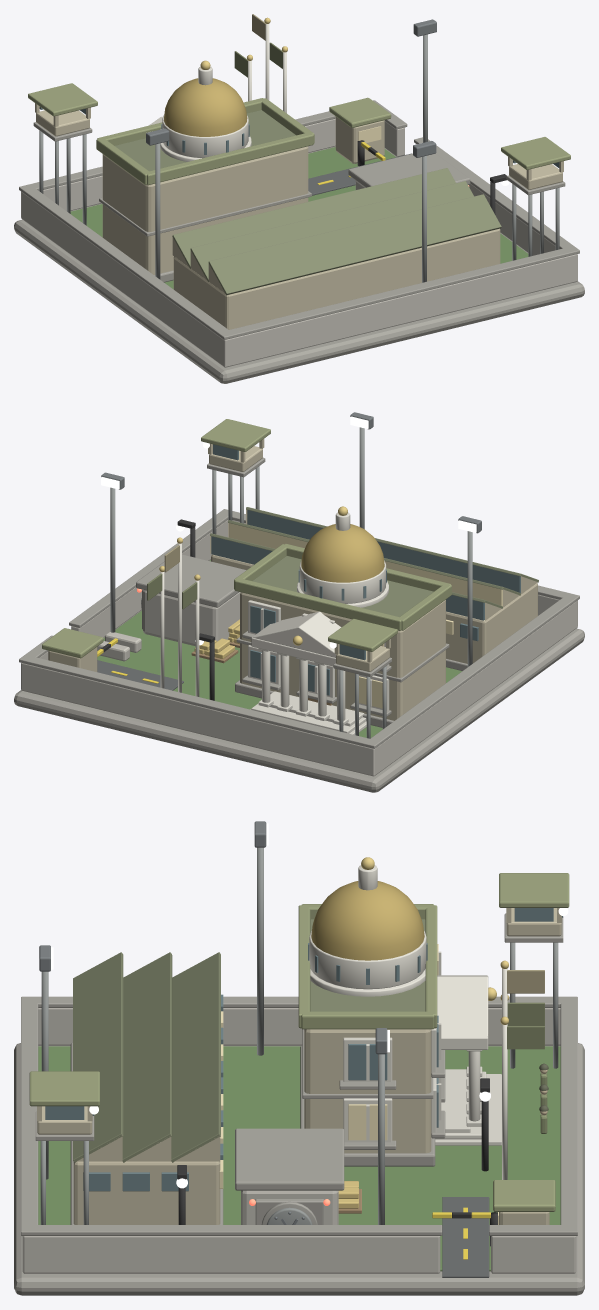
File: treasury_10.glb
3 renders of one model, top to bottom at view 1: azimuth 30°, elevation 25°; view 2: azimuth 150°, elevation 25°; view 3: azimuth 270°, elevation 25°, orthographic. The views are drawn at different scales.
Parts seen in each view (by area): view 1: Cube.036, Cube.014, Cube.031, Cube, Cube.114, Cube.116, Cube.035, Cube.033, Sphere.001, Cube.115, Cube.117, Cube.001 (+23 smaller); view 2: Cube.112, Cube, Cube.036, Cube.116, Cube.001, Sphere.001, Cube.113, Cube.014, Cube.106, Cube.030, Cube.117, Cube.107 (+33 smaller); view 3: Cube.001, Cube, Cube.120, Cube.033, Cube.036, Cube.035, Cube.031, Cube.014, Sphere.001, Cube.107, Cube.116, Cube.121 (+41 smaller).
Boxes of the visible parts, bbox=[...] form: Cube.036: bbox=[102, 146, 308, 274]; Cube.014: bbox=[173, 228, 500, 329]; Cube.031: bbox=[208, 194, 501, 295]; Cube: bbox=[14, 146, 584, 383]; Cube.114: bbox=[220, 254, 577, 367]; Cube.116: bbox=[23, 194, 221, 365]; Cube.035: bbox=[172, 168, 455, 268]; Cube.033: bbox=[190, 181, 473, 281]; Sphere.001: bbox=[163, 78, 247, 136]; Cube.115: bbox=[218, 246, 579, 339]; Cube.117: bbox=[21, 186, 231, 337]; Cube.001: bbox=[70, 147, 528, 289]; Cube.112: bbox=[21, 663, 377, 776]; Cube: bbox=[14, 559, 584, 792]; Cube.036: bbox=[240, 592, 445, 720]; Cube.116: bbox=[377, 602, 575, 773]; Cube.001: bbox=[97, 560, 461, 737]; Sphere.001: bbox=[301, 524, 384, 582]; Cube.113: bbox=[19, 655, 380, 748]; Cube.014: bbox=[211, 554, 537, 663]; Cube.106: bbox=[143, 590, 240, 646]; Cube.030: bbox=[247, 510, 520, 592]; Cube.117: bbox=[367, 596, 577, 746]; Cube.107: bbox=[136, 554, 246, 607]; Cube.001: bbox=[38, 1046, 560, 1271]; Cube: bbox=[14, 1043, 584, 1295]; Cube.120: bbox=[31, 1236, 440, 1273]; Cube.033: bbox=[122, 952, 172, 1162]; Cube.036: bbox=[304, 1029, 431, 1153]; Cube.035: bbox=[171, 952, 220, 1162]; Cube.031: bbox=[73, 952, 123, 1162]; Cube.014: bbox=[73, 1161, 220, 1224]; Sphere.001: bbox=[311, 881, 424, 960]; Cube.107: bbox=[235, 1128, 344, 1190]; Cube.116: bbox=[38, 1008, 560, 1045]; Cube.121: bbox=[28, 1225, 442, 1235].
Size of the model in its own units: 2.92 by 1.55 by 2.92.
